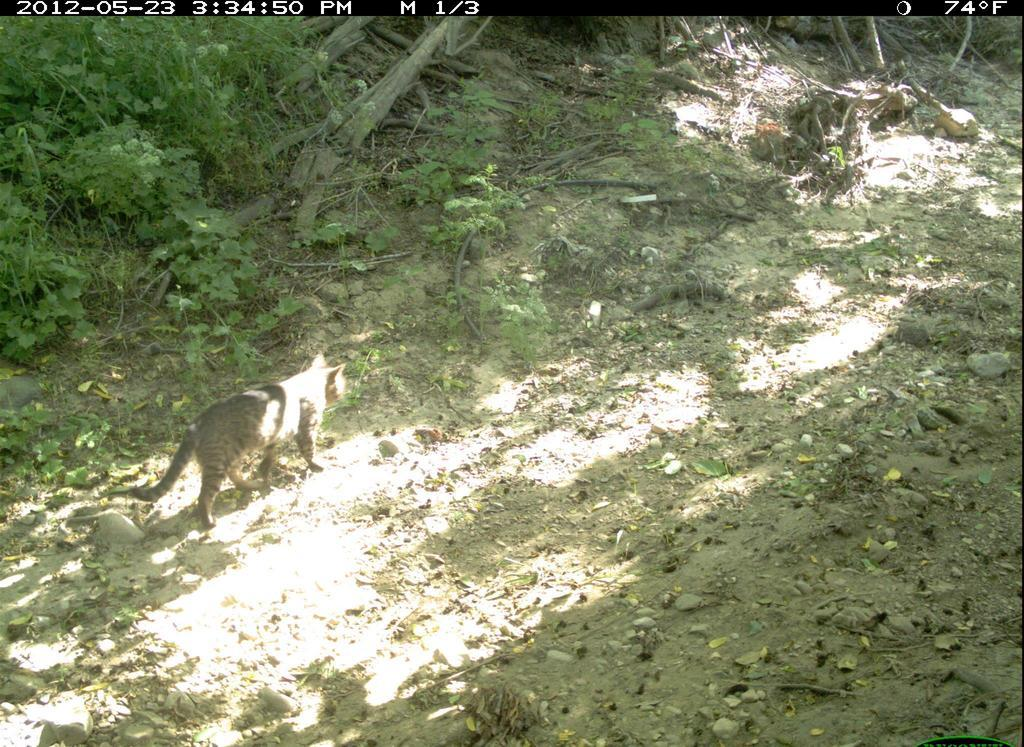cat: (120, 350, 370, 534)
